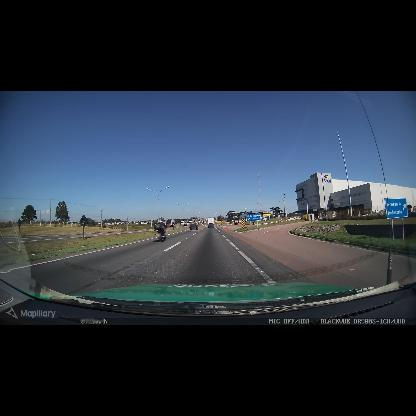A-32b: (220, 221, 223, 224), (195, 221, 197, 224)
O-MP: (242, 219, 245, 229)
R-19: (264, 217, 267, 221)
